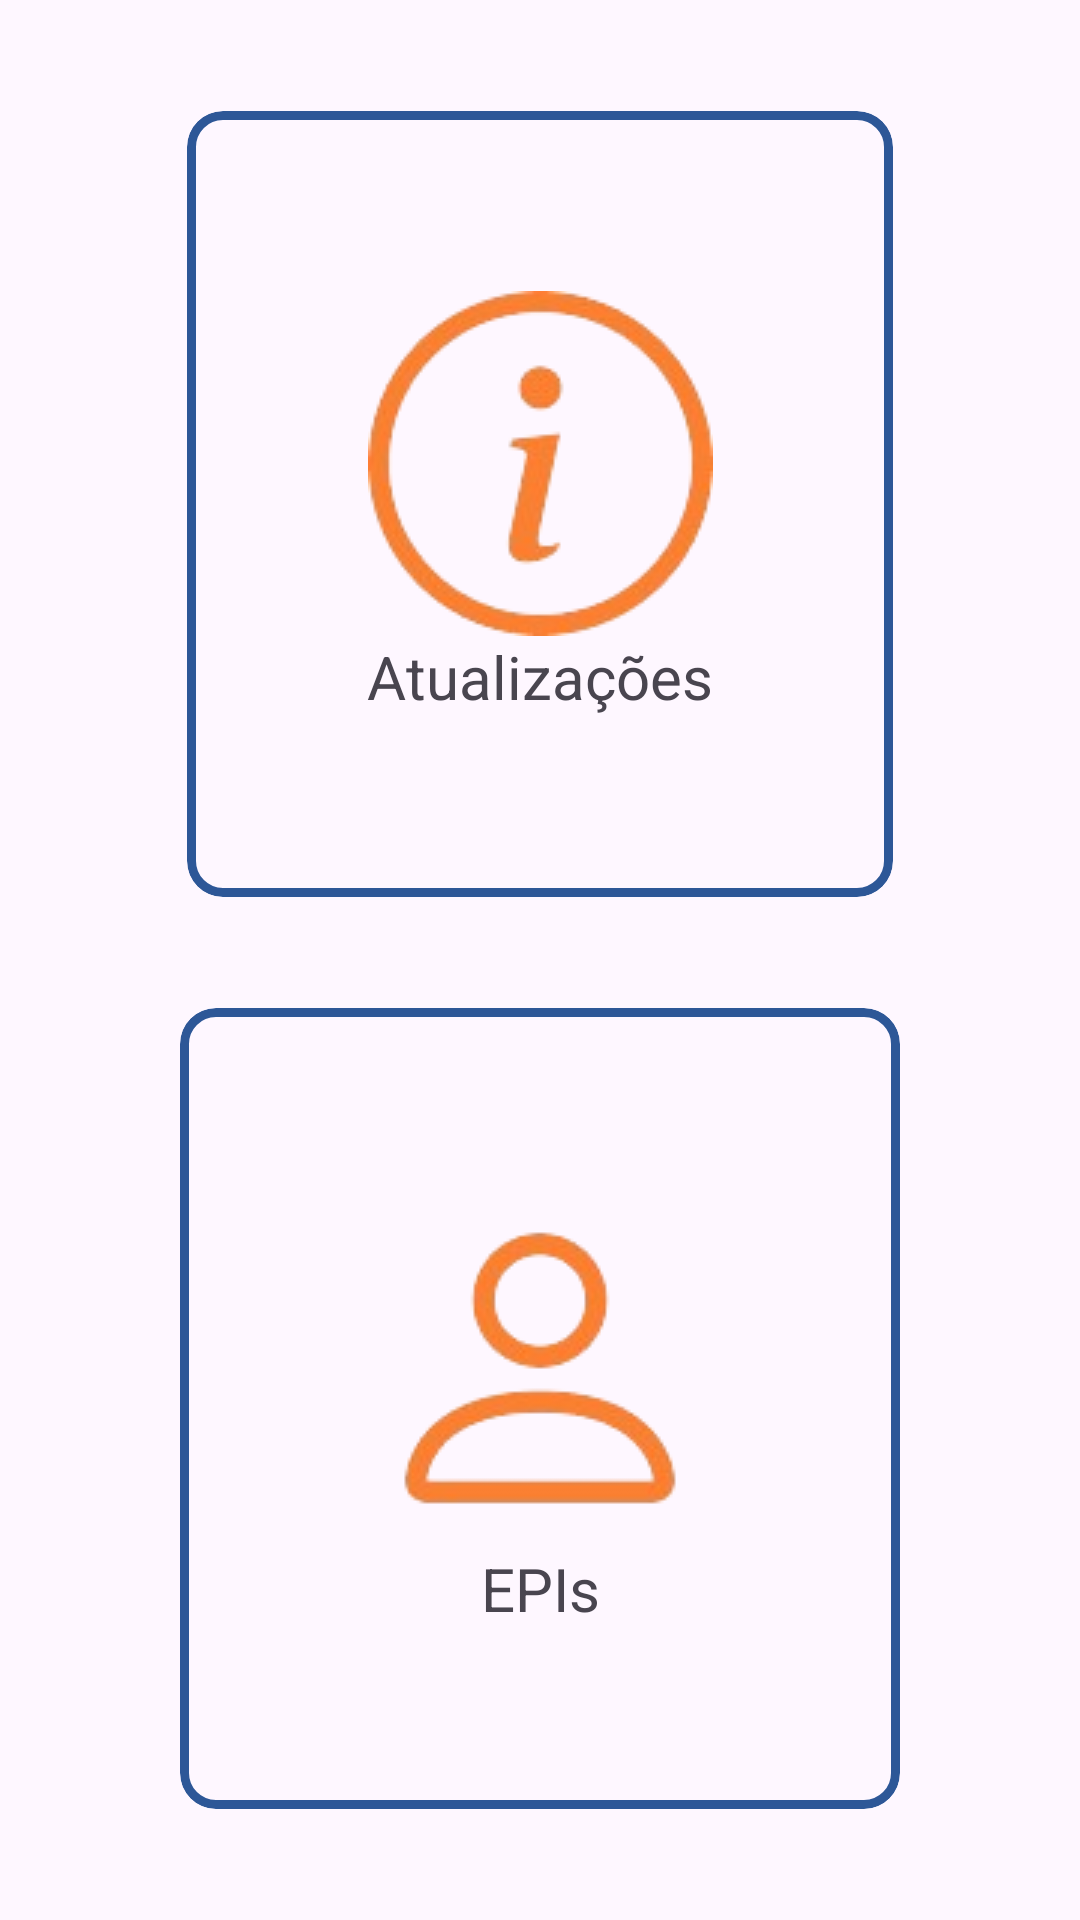

Icons on this 1080x1920 Android screen, each with the point to tap as point (x, y):
infocircle: point (540, 463)
person: point (540, 1368)
